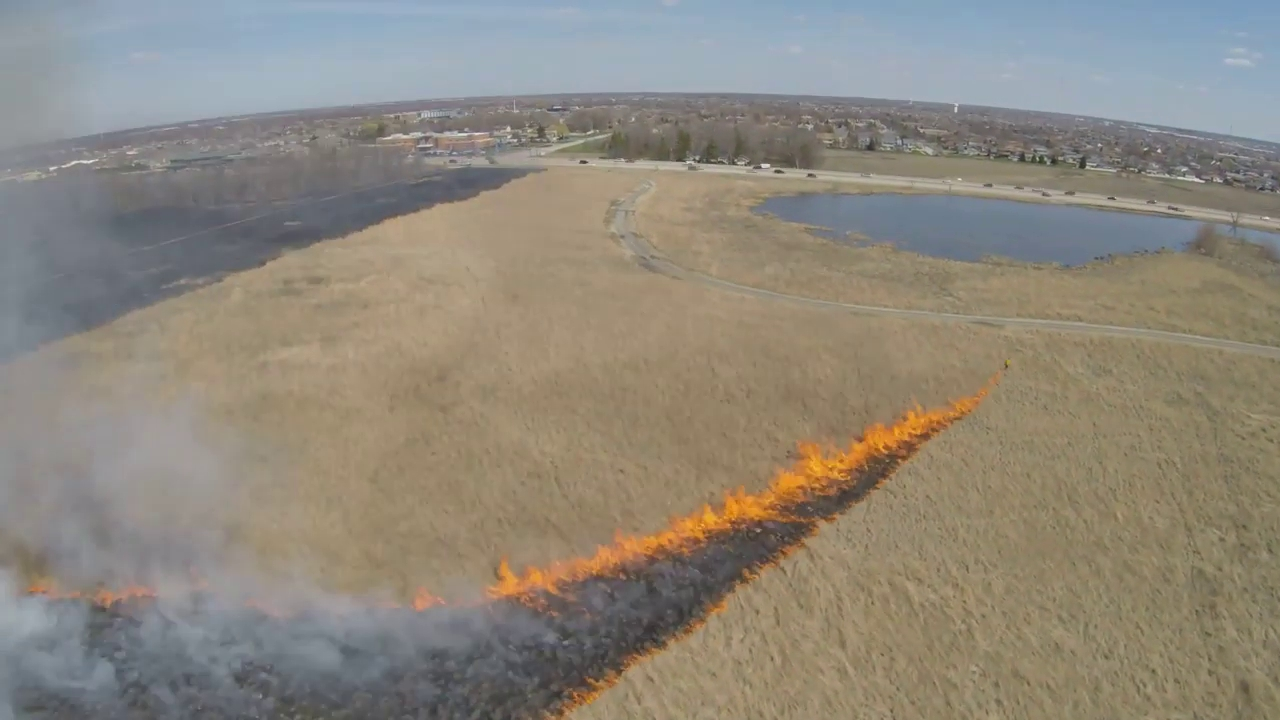forest_fire: (485, 373, 1000, 608), (549, 641, 671, 716), (27, 583, 157, 606), (408, 589, 448, 610)
